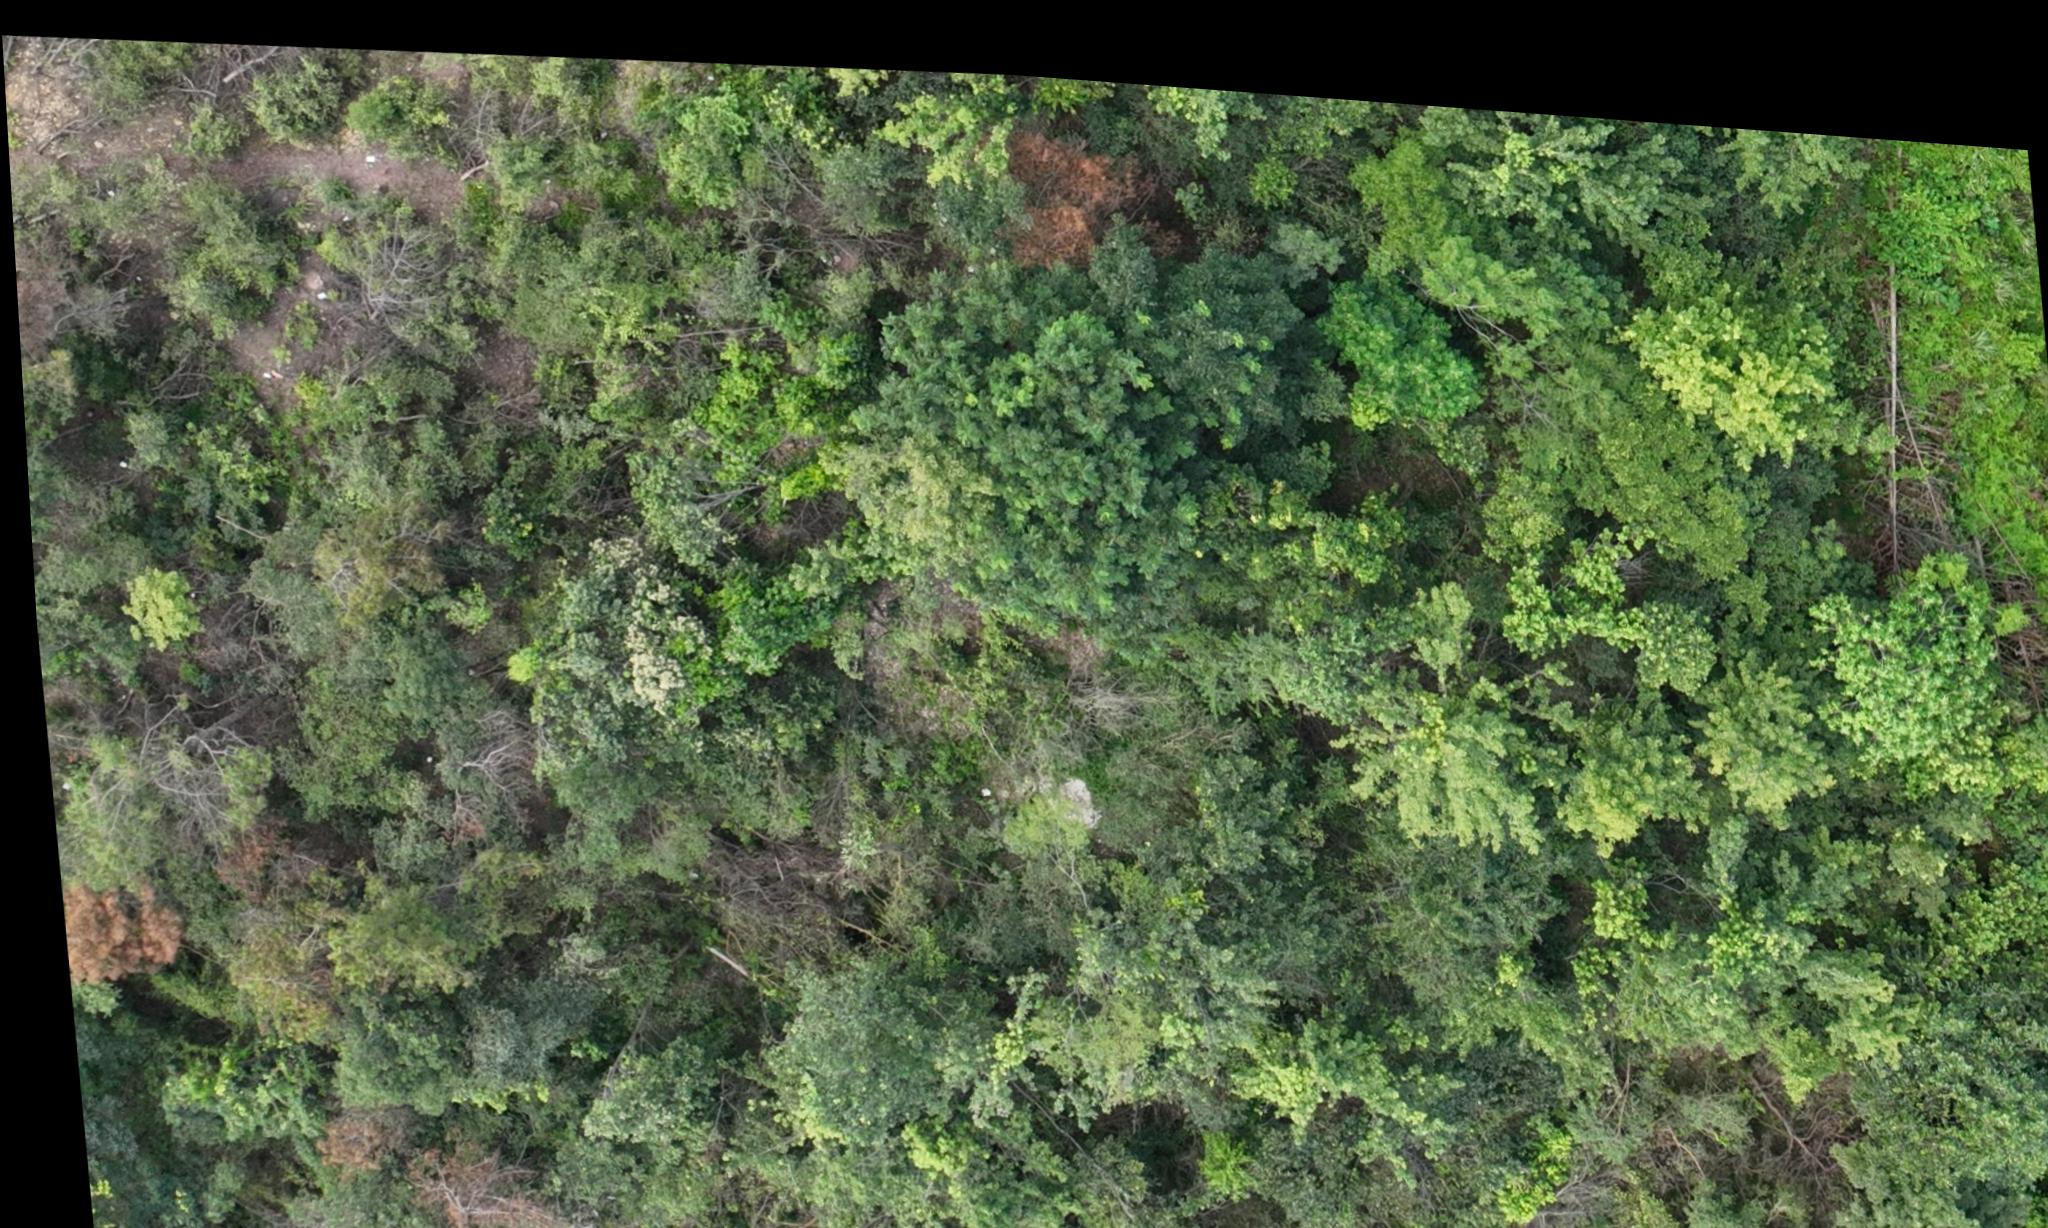heavy: (294, 1091, 531, 1228), (978, 98, 1175, 259), (57, 879, 180, 997)
